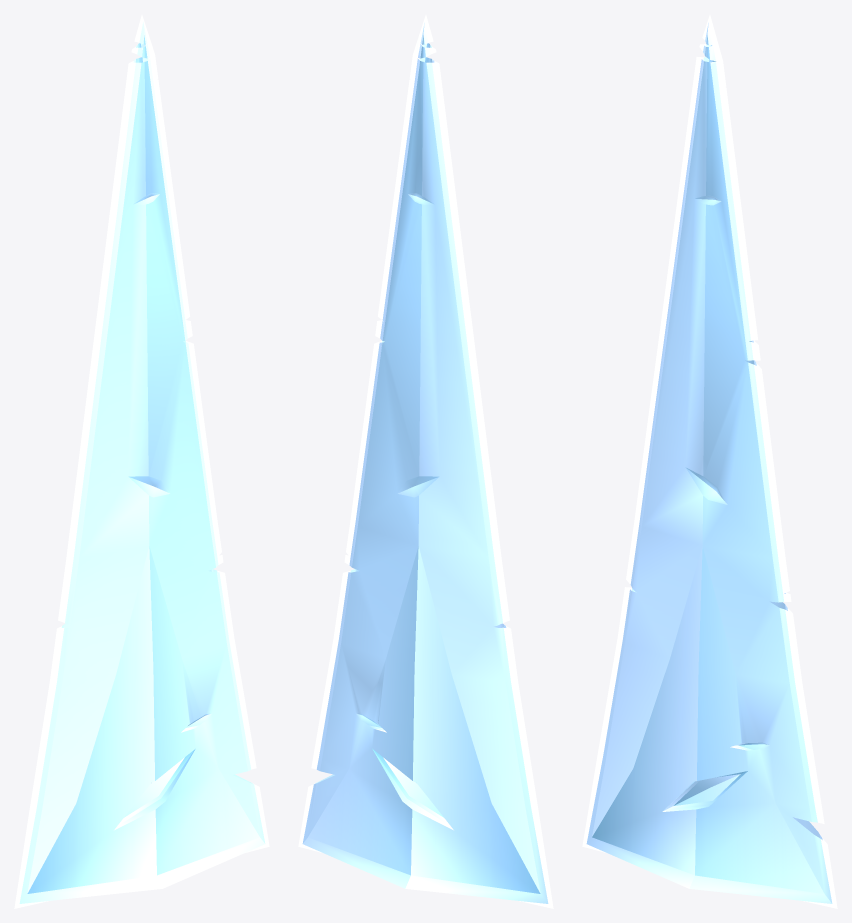
Rendered from steel_blade_scratched_043.glb.
3 views of the same model, side by side, from view 1: azimuth 30°, elevation 25°; view 2: azimuth 150°, elevation 25°; view 3: azimuth 330°, elevation 25° (orthographic).
Visible parts, largest first — view 1: steel_blade_scratched.043; view 2: steel_blade_scratched.043; view 3: steel_blade_scratched.043.
Boxes of the visible parts, box(x1,y1,x2,y2) form: steel_blade_scratched.043: box(14, 15, 269, 908); steel_blade_scratched.043: box(298, 15, 553, 908); steel_blade_scratched.043: box(582, 15, 837, 908).
Size of the model in its own units: 3.52 by 11.43 by 0.9907.
Materials: 1 (1 with a texture image).
